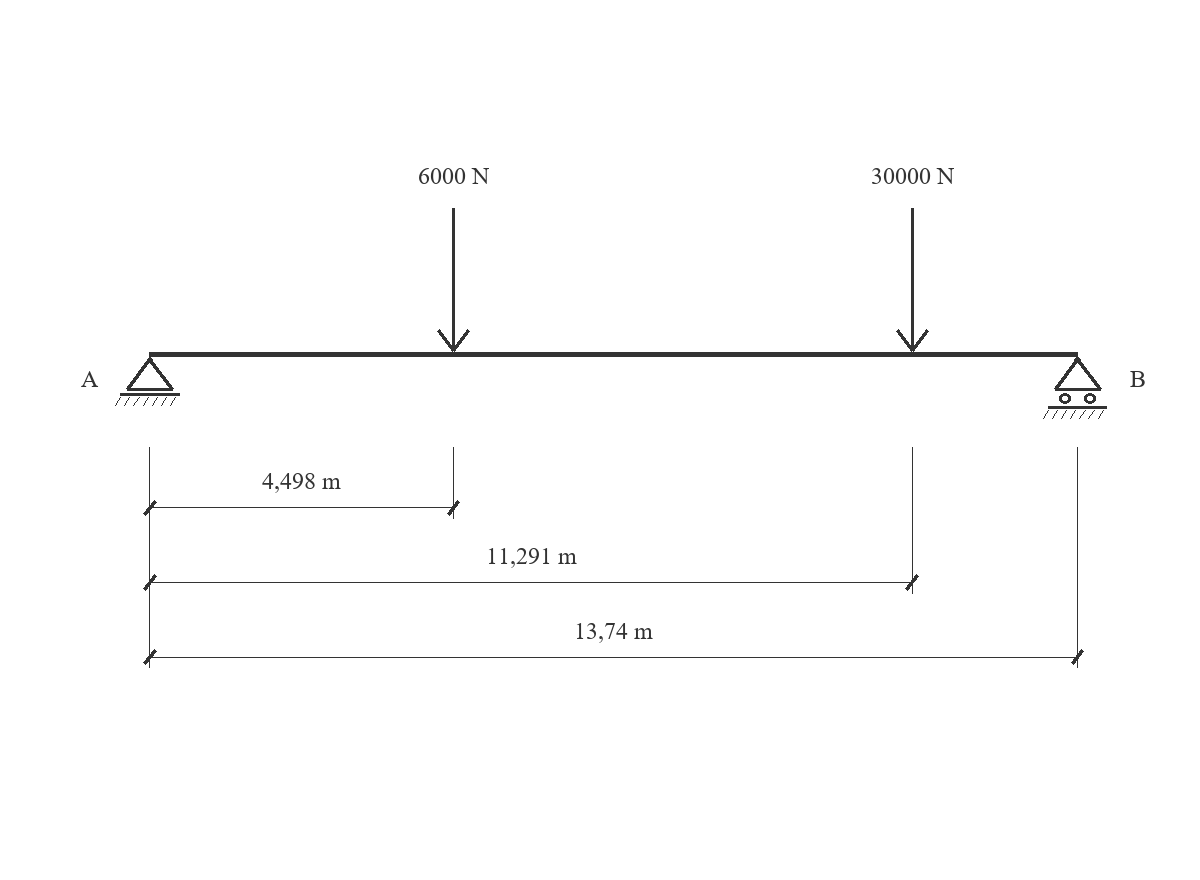pin_support: (115, 357, 180, 406)
point_load: (437, 208, 470, 352), (896, 208, 929, 352)
roller_support: (1043, 357, 1107, 419)
